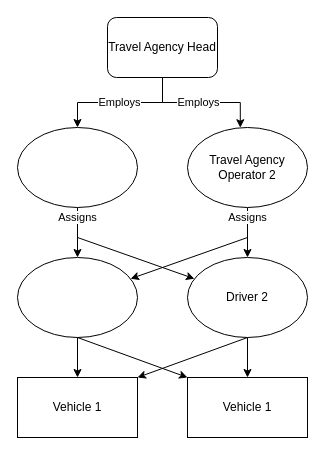
The diagram is 325 pixels wide and 455 high, and some of its shapes have lost their labels. Each missing label, with the box of its shape:
Driver 1: (16, 256, 138, 338)
Travel Agency Operator 1: (16, 126, 138, 208)
